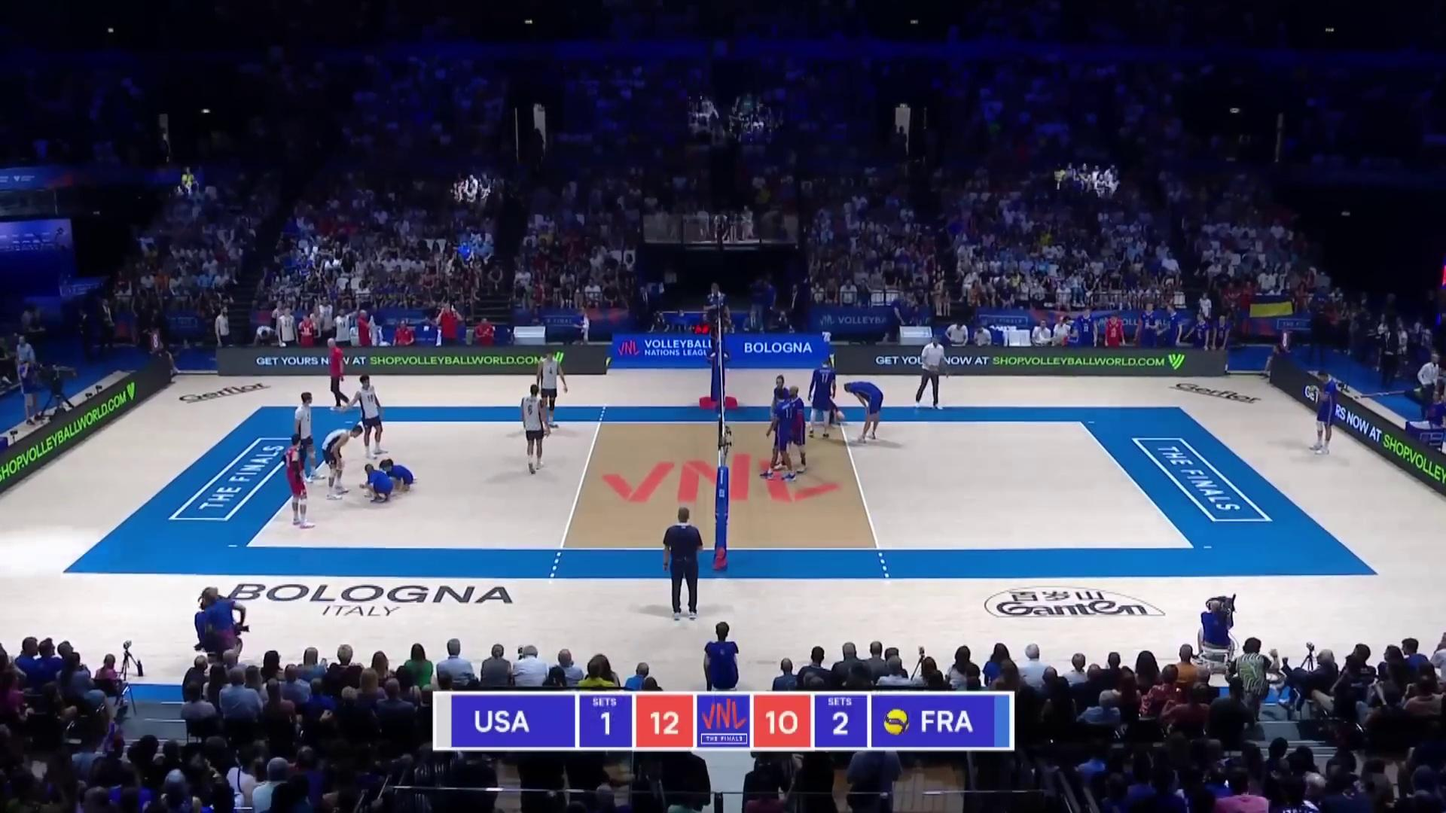player: (284, 440, 318, 532), (323, 421, 362, 501), (534, 349, 570, 431), (518, 385, 547, 478), (767, 392, 796, 484), (294, 392, 322, 486), (767, 376, 796, 465), (779, 387, 808, 473), (1306, 374, 1336, 453), (810, 356, 838, 440), (354, 379, 382, 455), (853, 380, 884, 444)
refree: (666, 512, 707, 621), (707, 283, 730, 357)
